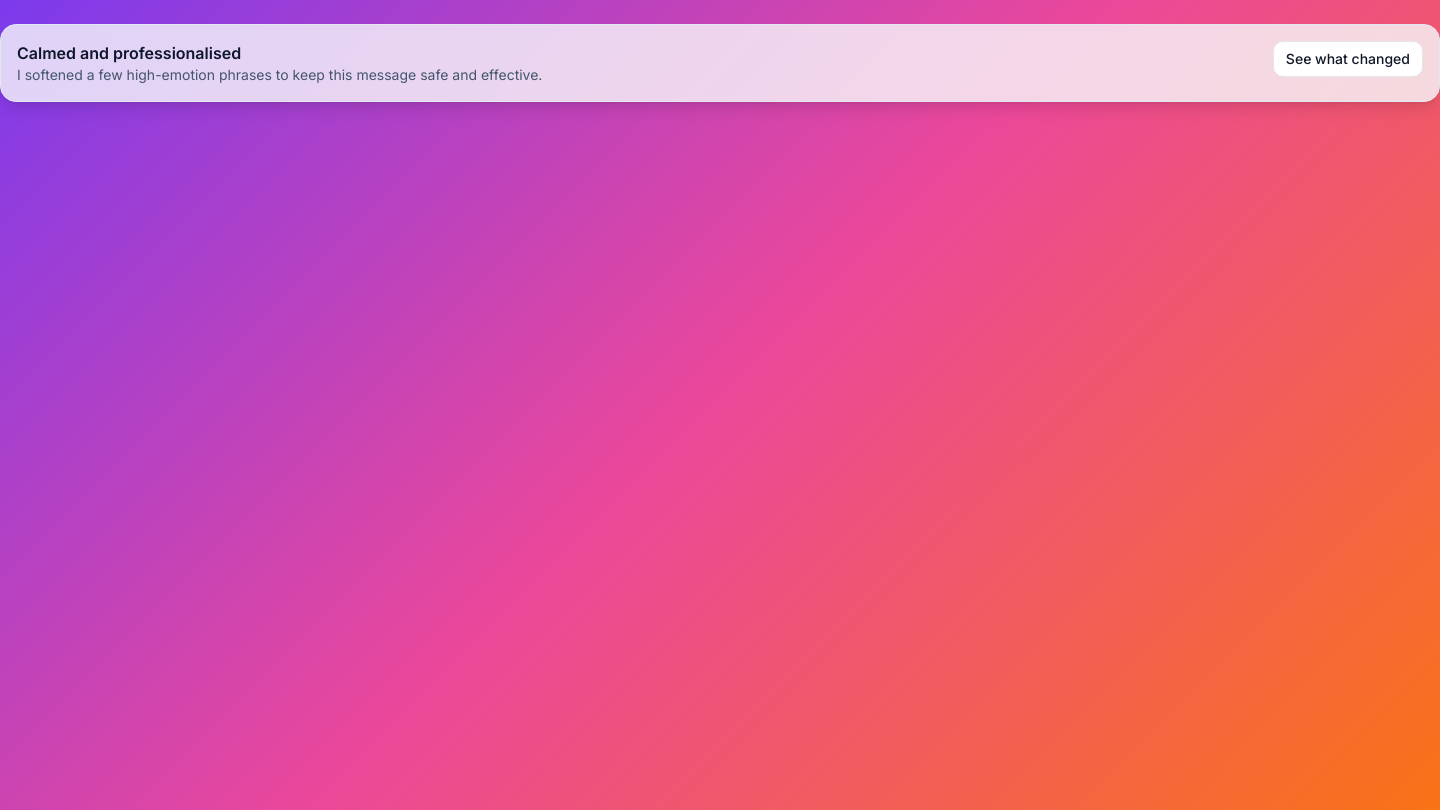
Test case: DeescalationBanner › shows details when the summary flags phrases
expect the text "Calmed and professionalised" is shown: met, box [17,43,241,63]
What coordinates should you click on to do the following:
click the button "See what changed"
I would click on:
 (1348, 59)
Its box is [1273,41,1423,77].
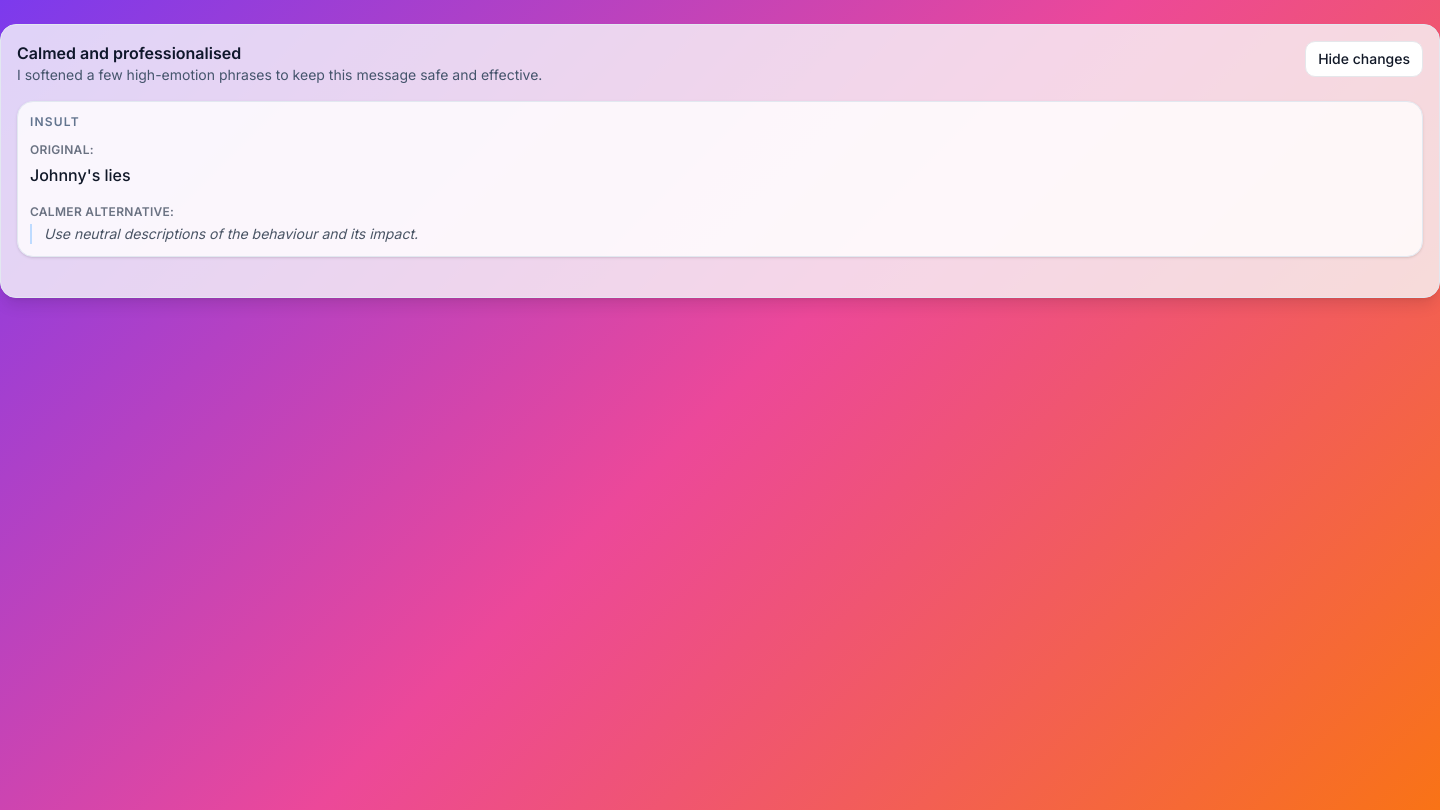
expect the text "Original:" is shown: met, box [30,142,94,157]
expect the text "Johnny's lies" is shown: met, box [30,165,131,185]
expect the text "Calmer alternative:" is shown: met, box [30,204,174,219]
